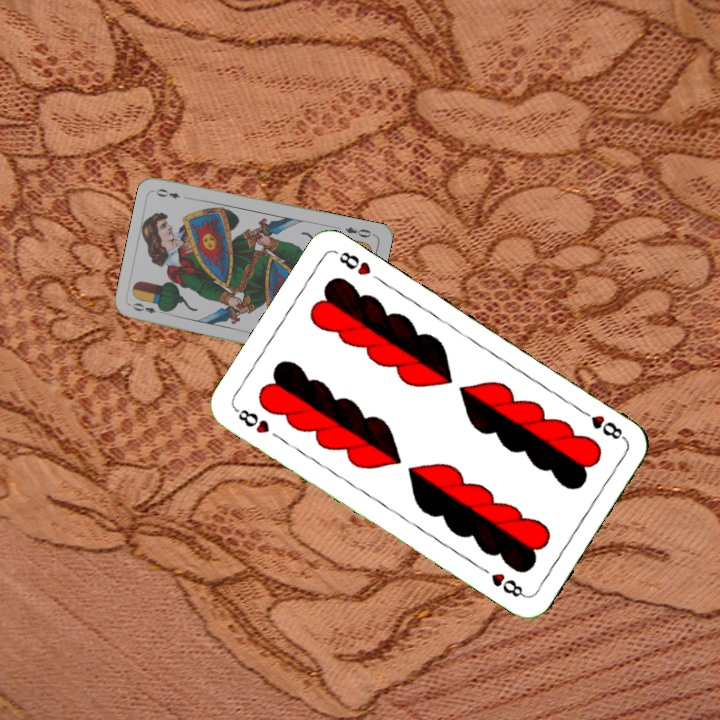EO: (128, 299, 168, 317), (341, 223, 377, 240)
H8: (575, 405, 628, 443), (231, 404, 272, 437)
